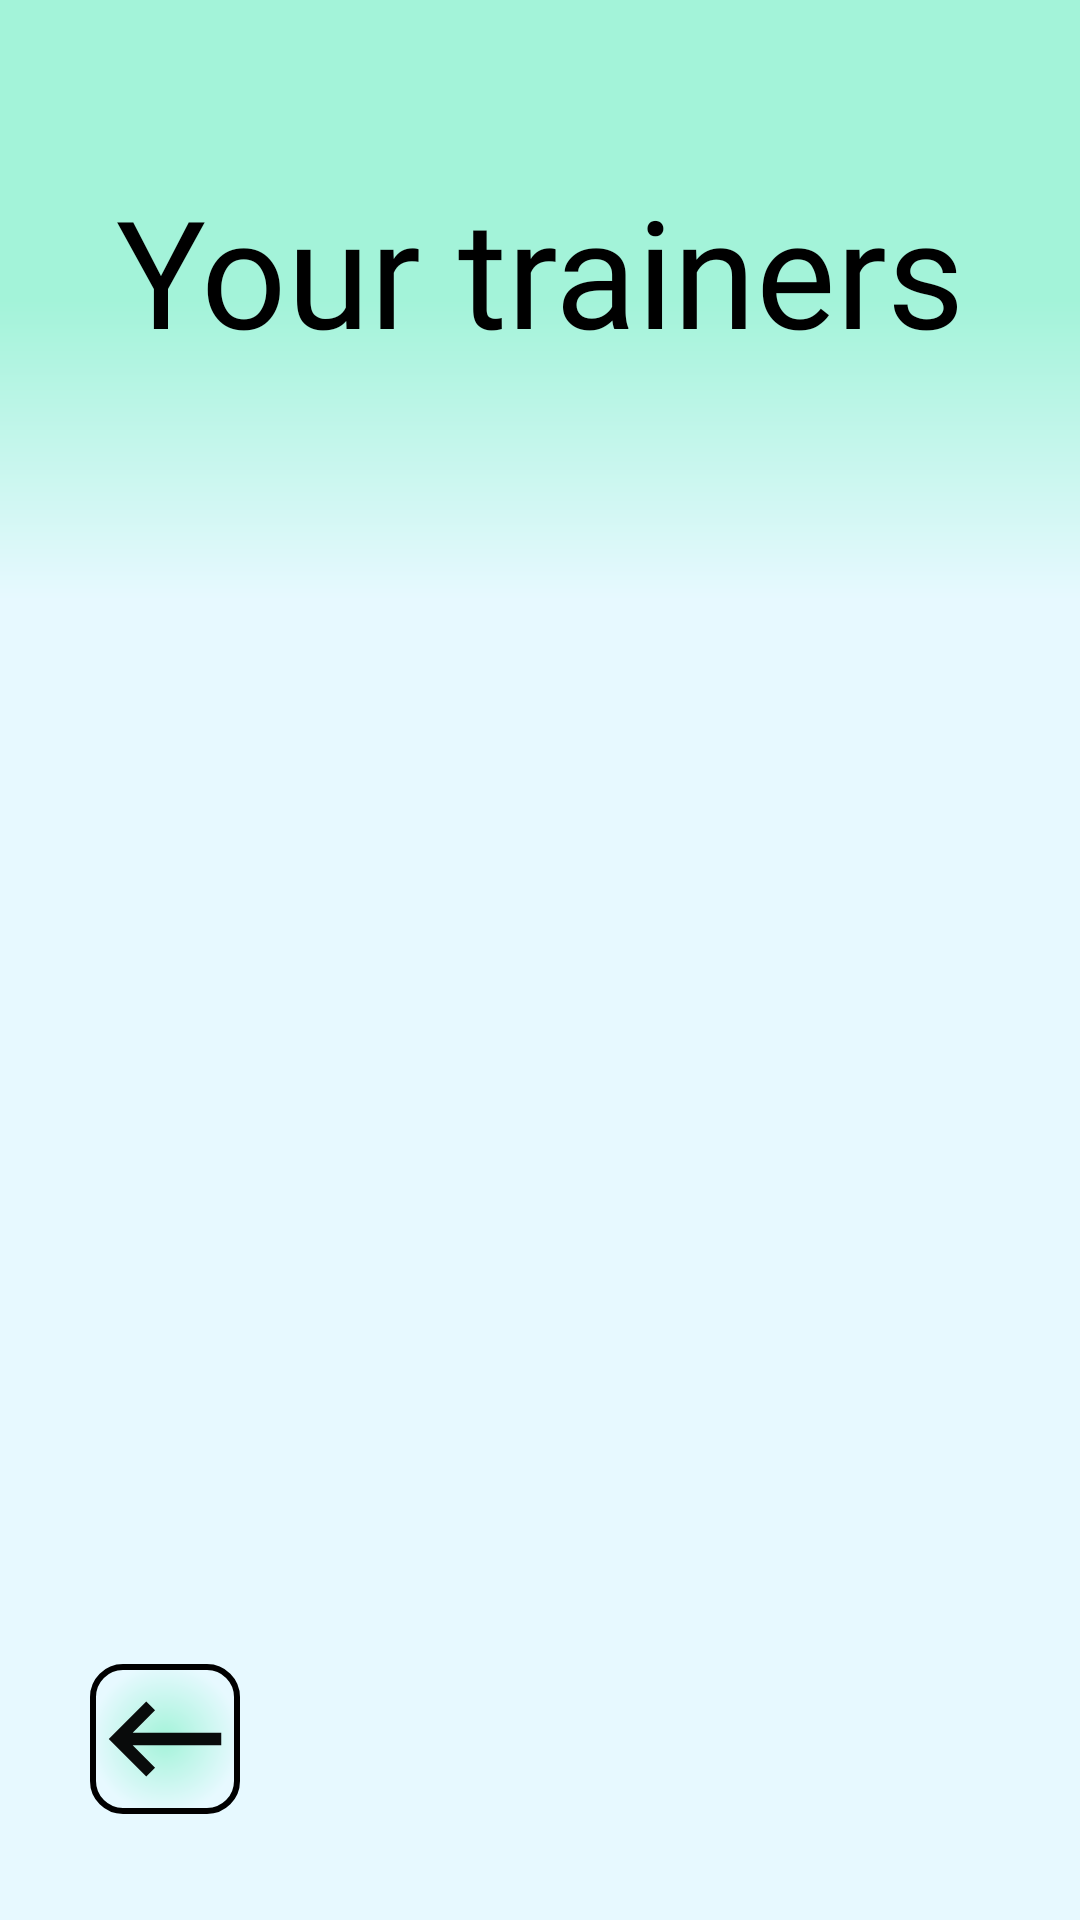

Where icons sit on this 1080w x 1920h app screen, as (x1, y1, x2, y2):
keyboard backspace: (90, 1664, 240, 1814)
